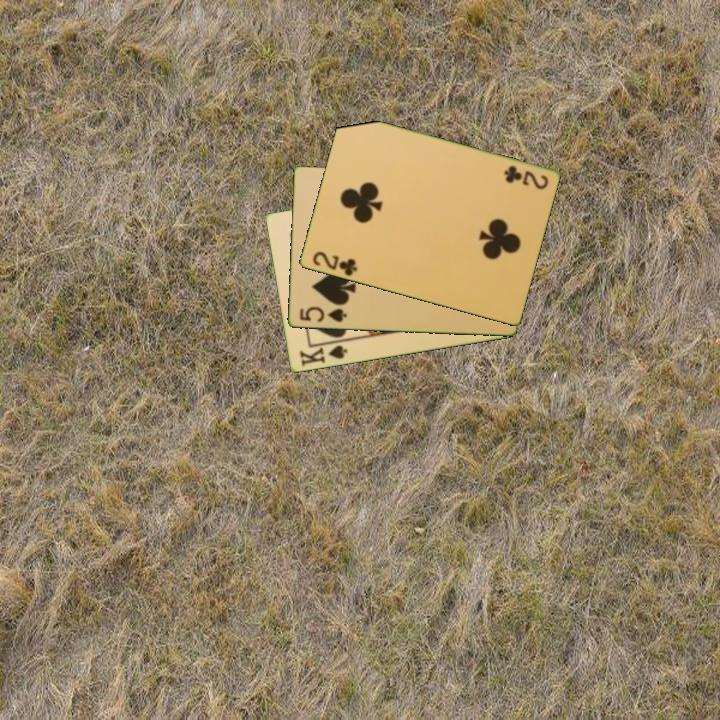2c: (309, 248, 360, 279), (500, 162, 551, 193)
5s: (296, 303, 349, 325)
Ks: (296, 338, 350, 370)
